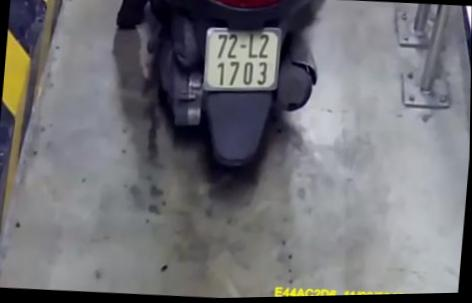LP: (200, 23, 284, 97)
